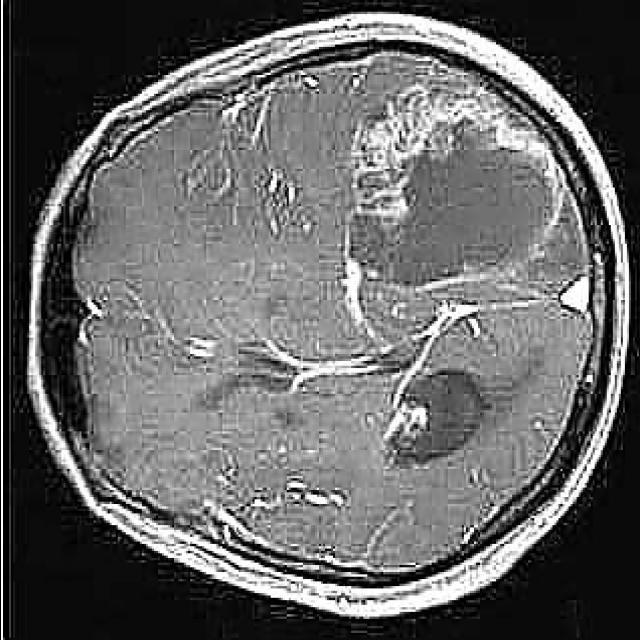tumor: (348, 105, 580, 286), (380, 368, 487, 471)
